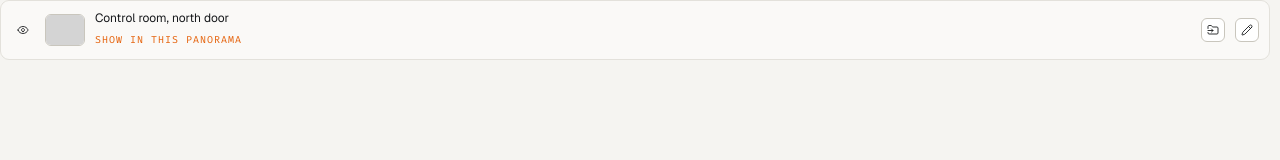
Test: PanoramaRow › waits its eye and its moves while a write on it is in flight
What coordinates should you click on to do the following:
click the button named "Move"
I would click on:
 (1213, 30)
Its box is [1201,18,1225,42].
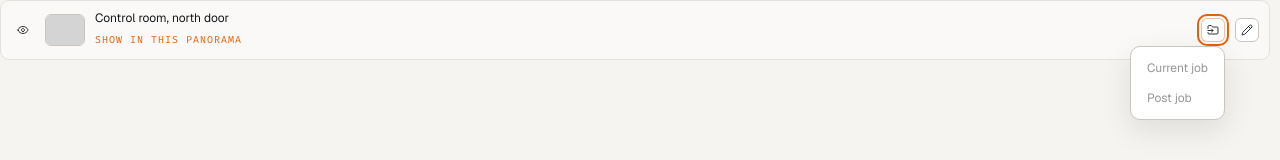
Check: the menu item "Current job" is disabled, box [1137,53,1218,83]
Check: the menu item "Post job" is disabled, box [1137,83,1218,113]
